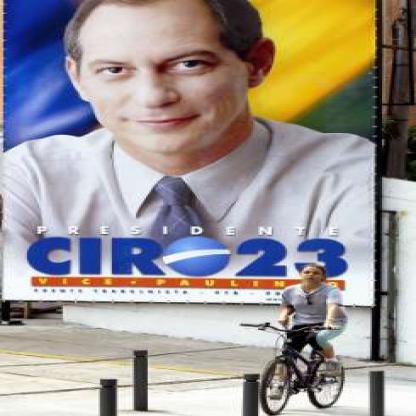face: (72, 1, 251, 157), (302, 266, 326, 284)
